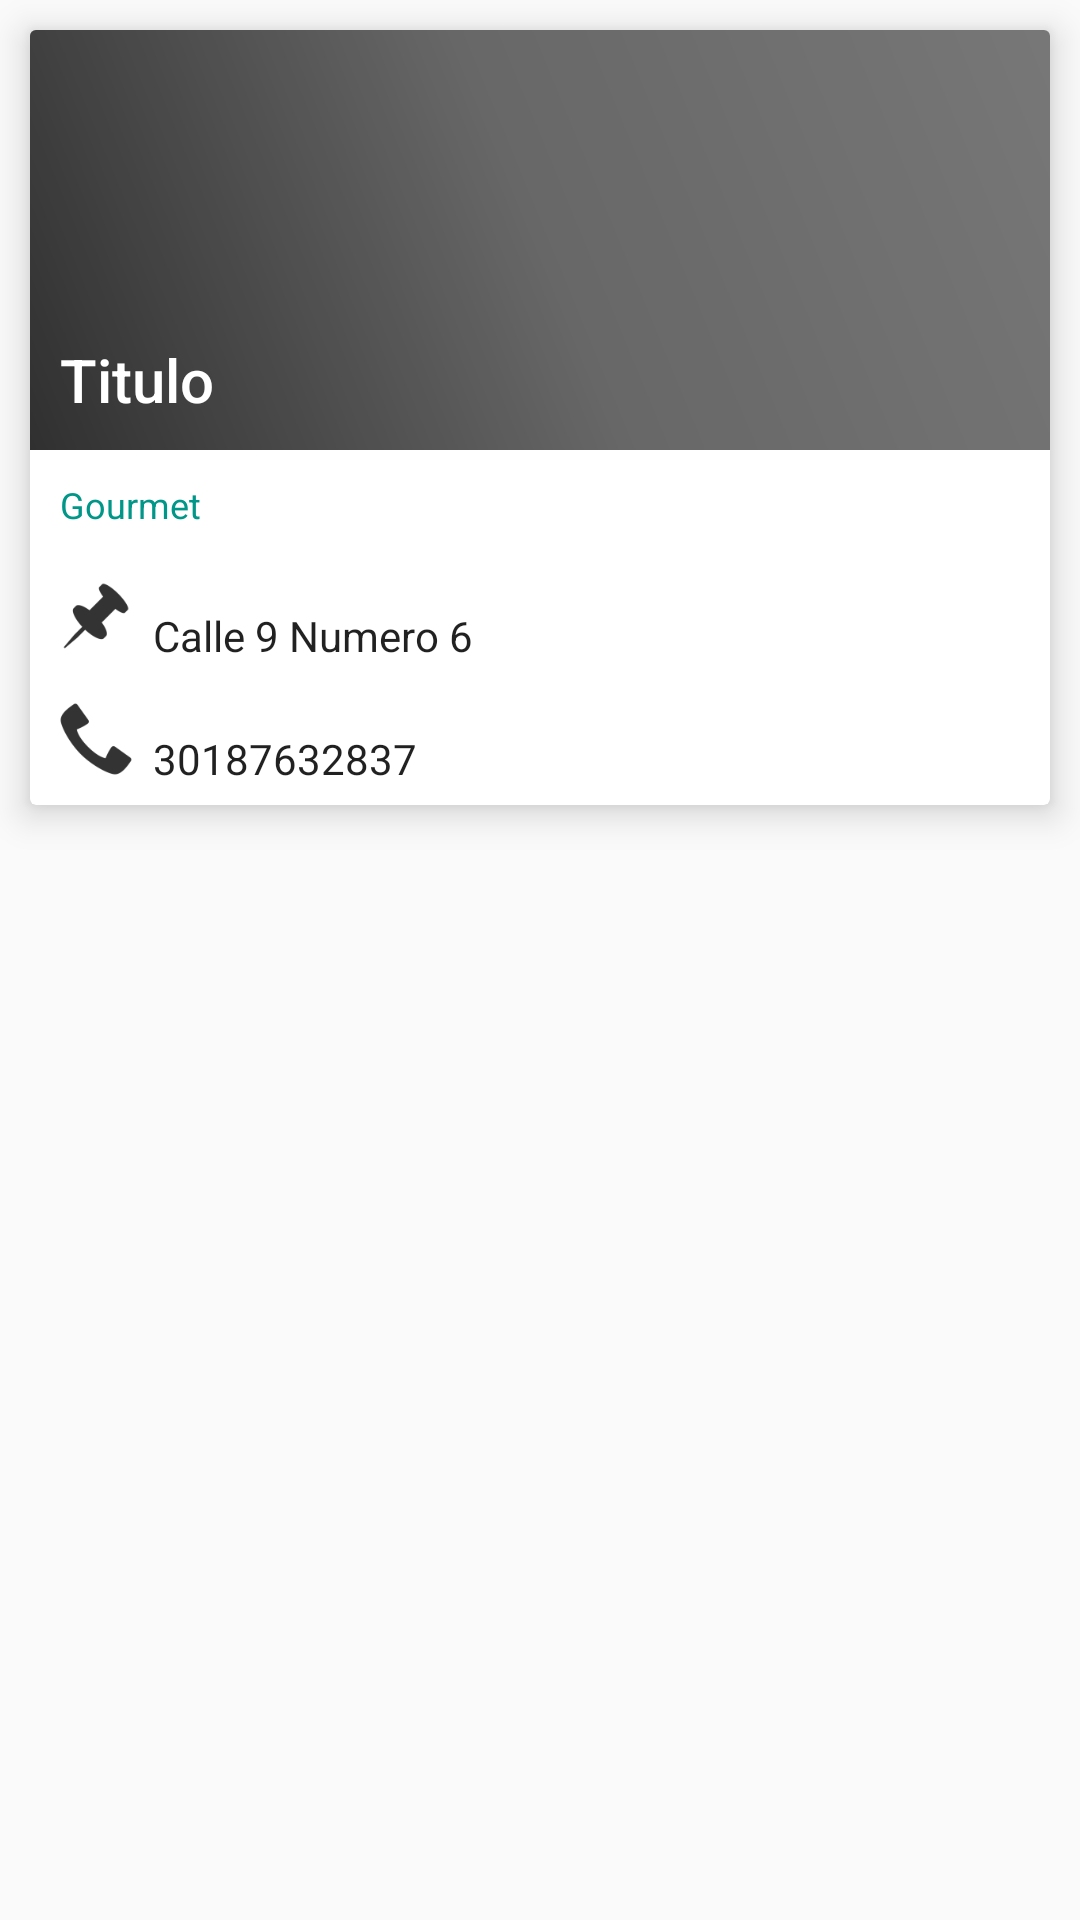

Icon click points for this 1080 × 1920 phone screenshot, format (x,y):
location: (96,616)
